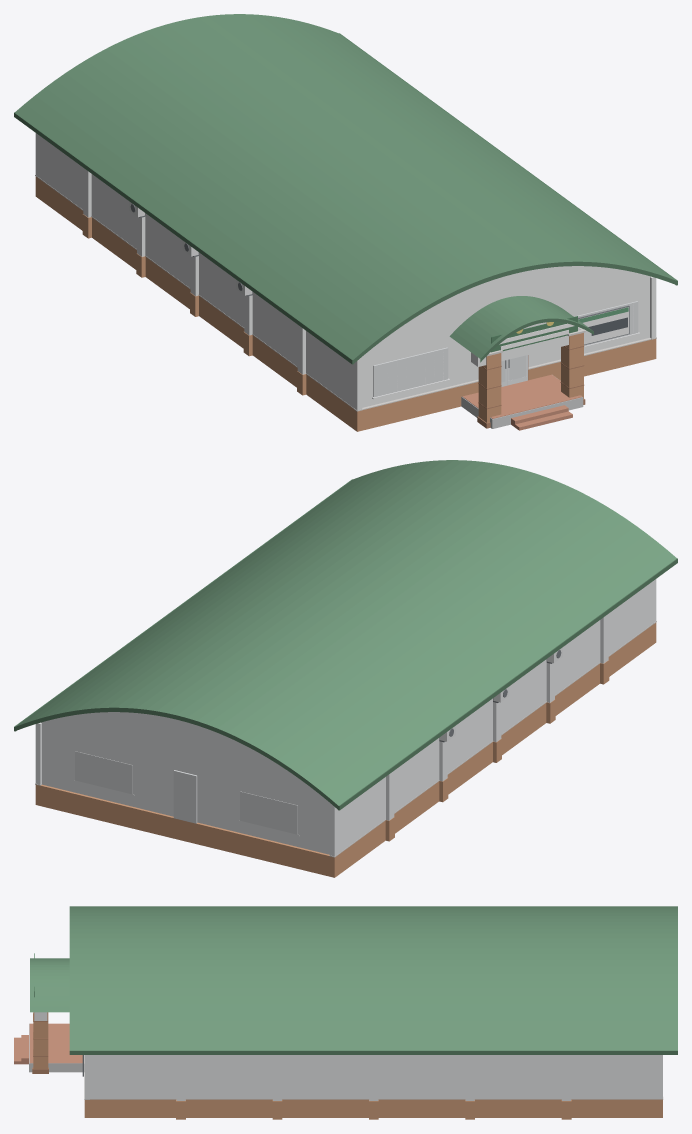
Rendered from laboratory_building.glb.
3 views of the same model, one above another, from view 1: azimuth 30°, elevation 25°; view 2: azimuth 150°, elevation 25°; view 3: azimuth 270°, elevation 25° (orthographic). The views are drawn at different scales.
Visible parts, largest first — view 1: Mesh_PH_RoofGreen, Mesh_PH_WallWhite, Mesh_PH_StoneVeneer, Mesh_PH_FasciaGreen, Mesh_PH_FrameAlum, Mesh_PH_TileTerracotta, Mesh_PH_StoneCap, PH_Porch_Plinth, PH_SignPlate, Mesh_PH_LetterWhite, PH_ProjSign_Face; view 2: Mesh_PH_RoofGreen, Mesh_PH_WallWhite, Mesh_PH_StoneVeneer, Mesh_PH_FrameAlum, Mesh_PH_FasciaGreen; view 3: Mesh_PH_RoofGreen, Mesh_PH_WallWhite, Mesh_PH_StoneVeneer, Mesh_PH_FasciaGreen, Mesh_PH_TileTerracotta, Mesh_PH_StoneCap, PH_Porch_Plinth.
Boxes of the visible parts, box(x1,y1,x2,y2) form: Mesh_PH_RoofGreen: box(15, 14, 676, 359); Mesh_PH_WallWhite: box(35, 133, 656, 410); Mesh_PH_StoneVeneer: box(35, 176, 656, 431); Mesh_PH_FasciaGreen: box(14, 33, 677, 364); Mesh_PH_FrameAlum: box(373, 301, 638, 397); Mesh_PH_TileTerracotta: box(462, 374, 581, 430); Mesh_PH_StoneCap: box(35, 175, 656, 411); PH_Porch_Plinth: box(461, 378, 583, 428); PH_SignPlate: box(491, 316, 577, 352); Mesh_PH_LetterWhite: box(499, 323, 574, 350); PH_ProjSign_Face: box(578, 307, 628, 344); Mesh_PH_RoofGreen: box(15, 460, 676, 805); Mesh_PH_WallWhite: box(35, 579, 656, 856); Mesh_PH_StoneVeneer: box(35, 623, 656, 877); Mesh_PH_FrameAlum: box(75, 751, 297, 834); Mesh_PH_FasciaGreen: box(14, 479, 677, 810); Mesh_PH_RoofGreen: box(30, 906, 677, 1050); Mesh_PH_WallWhite: box(34, 1012, 662, 1100); Mesh_PH_StoneVeneer: box(33, 1012, 662, 1119); Mesh_PH_FasciaGreen: box(69, 1050, 677, 1054); Mesh_PH_TileTerracotta: box(14, 1023, 82, 1064); Mesh_PH_StoneCap: box(84, 1055, 663, 1099); PH_Porch_Plinth: box(29, 1023, 84, 1072).
Bounding box in the file's own units: 15.78 × 6.12 × 31.
